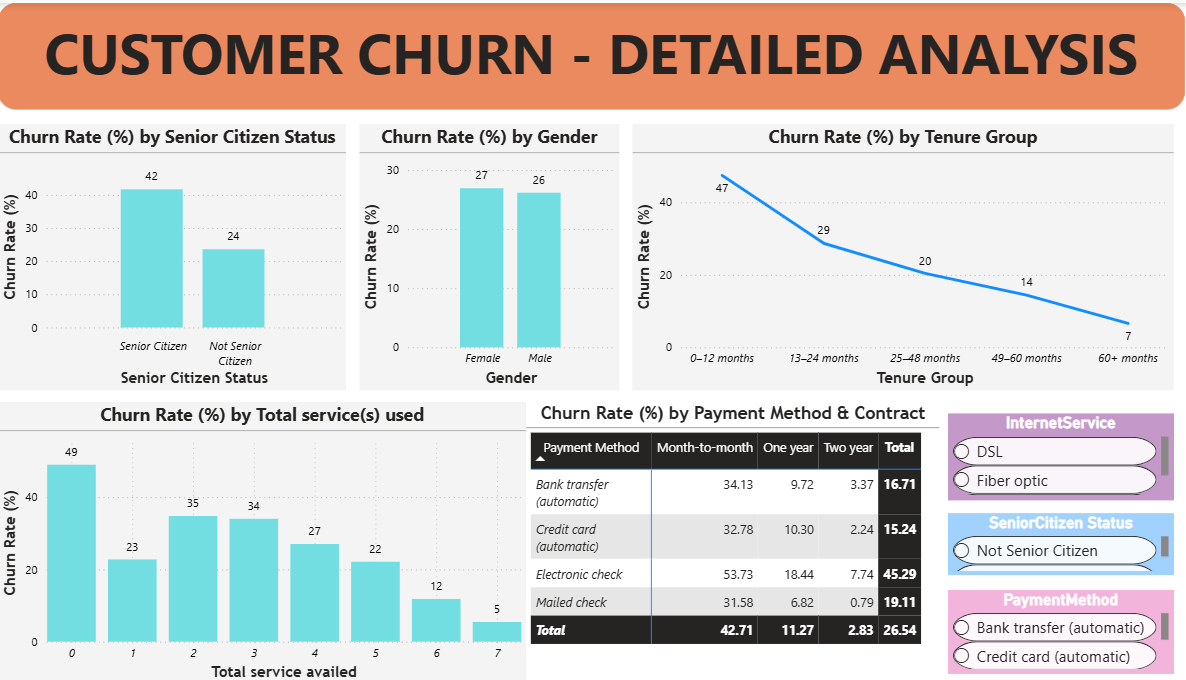

The dashboard page shown, as its layout file describes it:
{"tool":"powerbi","page":{"name":"Page 2","canvas":[1280,720],"ordinal":1},"visuals":[{"type":"textbox","box":[13.8,0,1253.9,112.3],"z":0},{"type":"clusteredColumnChart","fields":{"Category":["customer_churn.gender"],"Y":["customer_churn.churn_rate"]},"box":[395.5,127.8,274.6,281.5],"z":1000},{"type":"clusteredColumnChart","fields":{"Category":["customer_churn.SeniorCitizen Status"],"Y":["customer_churn.churn_rate"]},"box":[13.8,127.8,367.9,281.5],"z":2000},{"type":"lineChart","fields":{"Category":["customer_churn.Tenure Group"],"Y":["customer_churn.Churn Rate (%)"]},"box":[684,127.8,571.7,281.5],"z":3000},{"type":"clusteredColumnChart","title":"Churn Rate (%) by Total service(s) used","fields":{"Category":["customer_churn.Total service availed"],"Y":["customer_churn.Churn Rate (%)"]},"box":[13.8,421.4,557.9,298.8],"z":4000},{"type":"pivotTable","title":"Churn Rate (%) by Payment Method & Contract","fields":{"Rows":["customer_churn.PaymentMethod"],"Columns":["customer_churn.Contract"],"Values":["customer_churn.Churn Rate (%)"]},"box":[571.7,421.4,437,264.3],"z":5000},{"type":"listSlicer","fields":{"Values":["customer_churn.InternetService"]},"box":[1017.3,433.5,238.4,91.5],"z":6000},{"type":"listSlicer","fields":{"Values":["customer_churn.PaymentMethod"]},"box":[1017.3,620.1,238.4,88.1],"z":7000},{"type":"listSlicer","fields":{"Values":["customer_churn.SeniorCitizen Status"]},"box":[1017.3,538.9,238.4,65.6],"z":7001}]}

Visuals, with their boxes in screenshot pixels (x1, y1, x2, y2), scaled from the page's 1280x720 canvas onto the 1186x680 screenshot:
textbox: {"left": 13, "top": 0, "right": 1175, "bottom": 106}
clusteredColumnChart - customer_churn.gender x customer_churn.churn_rate: {"left": 366, "top": 121, "right": 621, "bottom": 387}
clusteredColumnChart - customer_churn.SeniorCitizen Status x customer_churn.churn_rate: {"left": 13, "top": 121, "right": 354, "bottom": 387}
lineChart - customer_churn.Tenure Group x customer_churn.Churn Rate (%): {"left": 634, "top": 121, "right": 1163, "bottom": 387}
"Churn Rate (%) by Total service(s) used" clusteredColumnChart: {"left": 13, "top": 398, "right": 530, "bottom": 679}
"Churn Rate (%) by Payment Method & Contract" pivotTable: {"left": 530, "top": 398, "right": 935, "bottom": 648}
listSlicer - customer_churn.InternetService: {"left": 943, "top": 409, "right": 1163, "bottom": 496}
listSlicer - customer_churn.PaymentMethod: {"left": 943, "top": 586, "right": 1163, "bottom": 669}
listSlicer - customer_churn.SeniorCitizen Status: {"left": 943, "top": 509, "right": 1163, "bottom": 571}
